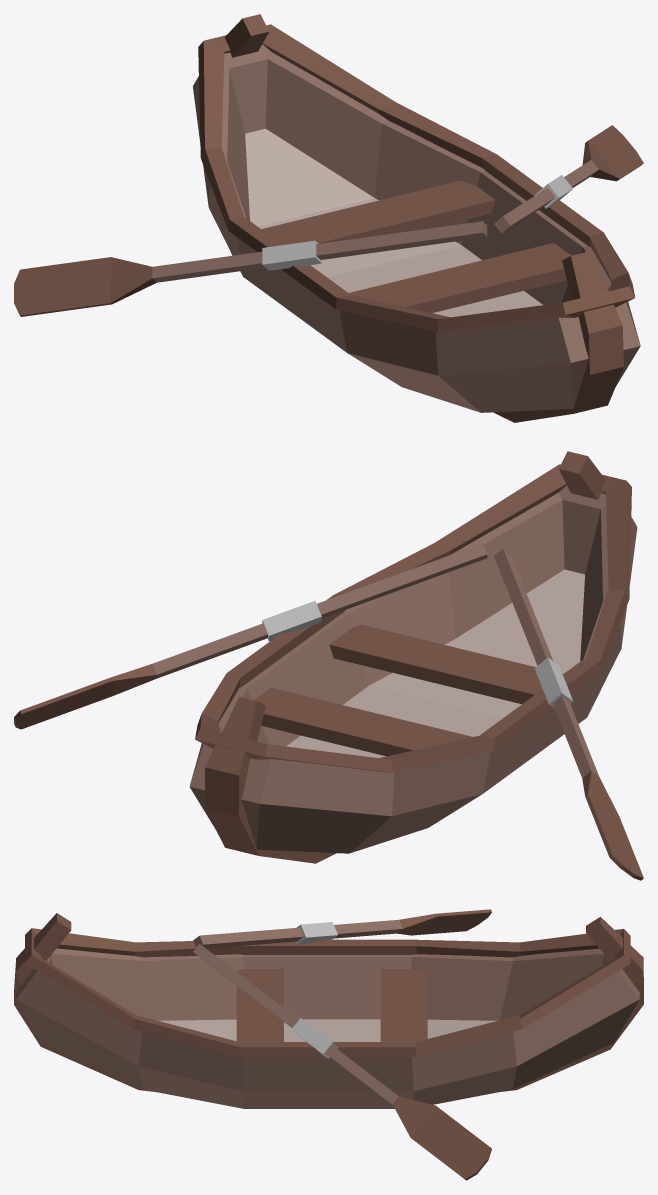
File: props_027.glb
3 views of the same model, one above another, from view 1: azimuth 30°, elevation 25°; view 2: azimuth 150°, elevation 25°; view 3: azimuth 270°, elevation 25° (orthographic). The views are drawn at different scales.
Parts seen in each view (by area): view 1: props_027; view 2: props_027; view 3: props_027.
Boxes of the visible parts, x1=… form: props_027: x1=14, y1=14, x2=643, y2=422; props_027: x1=14, y1=451, x2=643, y2=880; props_027: x1=14, y1=909, x2=643, y2=1180.
Size of the model in its own units: 6.28 by 2.08 by 6.66.
Materials: 1 (1 with a texture image).
